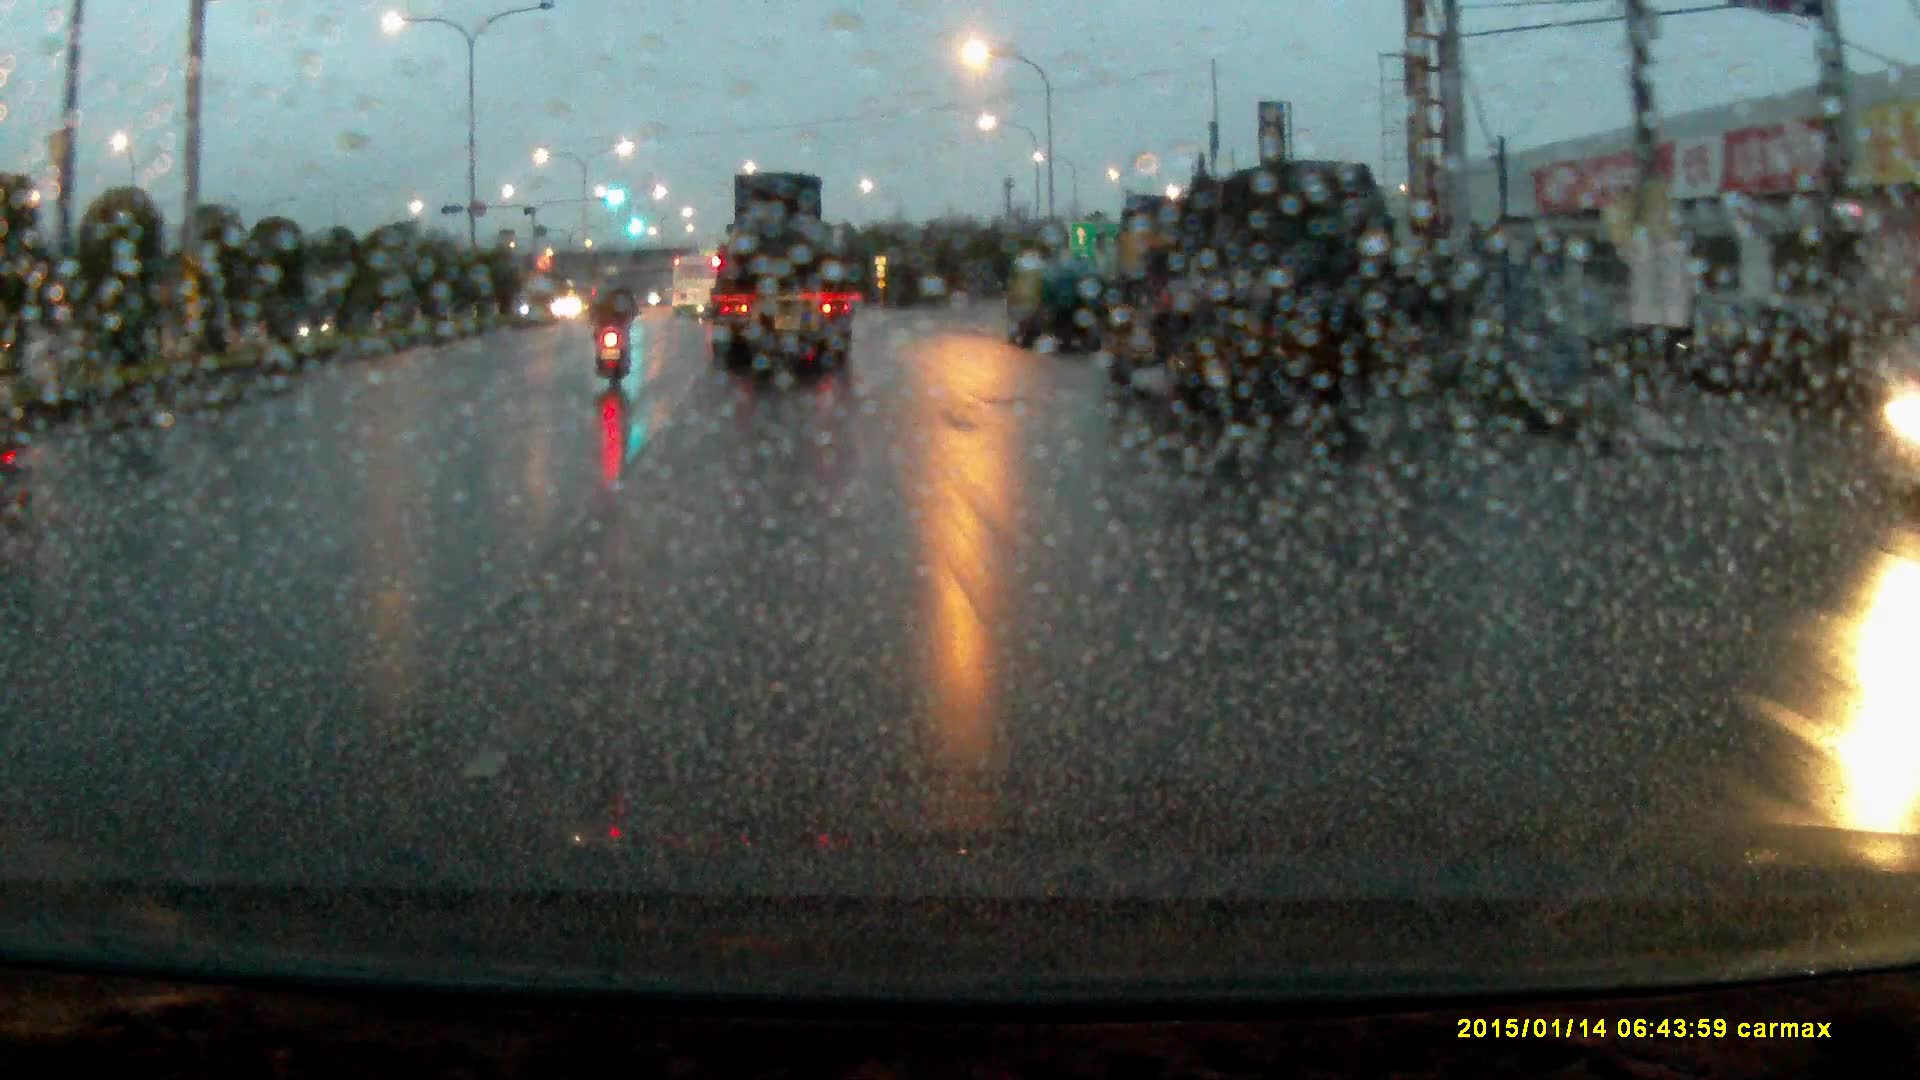rider: (588, 265, 642, 385)
vehicle: (1098, 158, 1398, 442), (707, 166, 861, 372), (1005, 254, 1104, 351), (673, 253, 718, 318), (590, 282, 635, 324)
